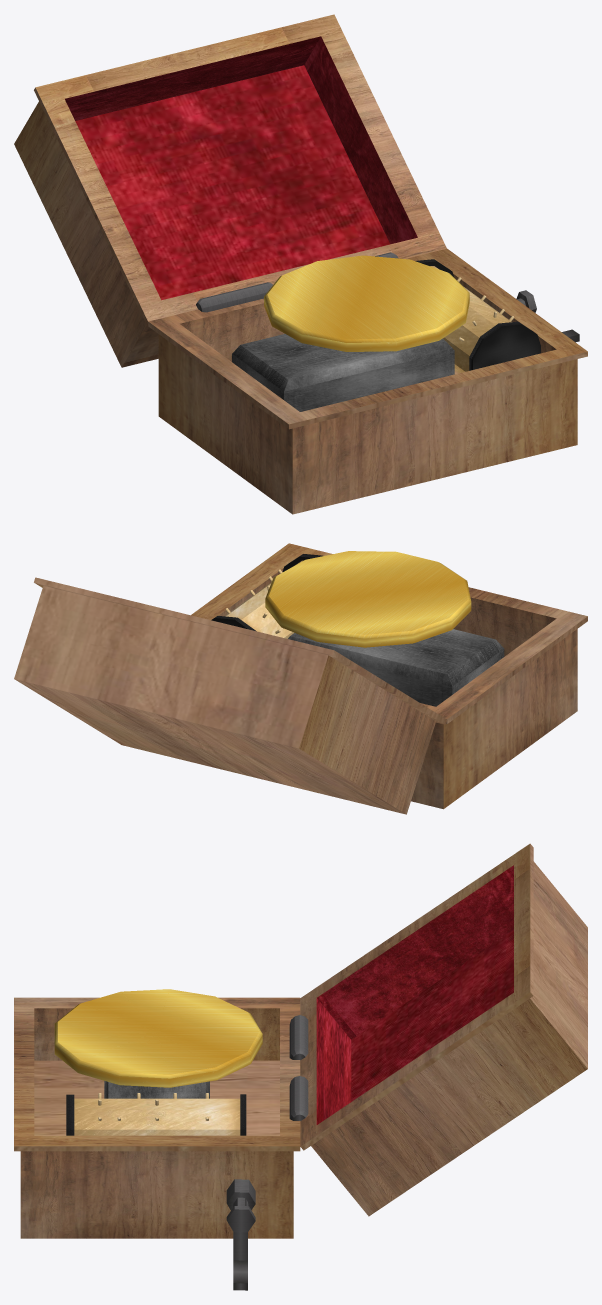
Rendered from NewMusicBox.fbx.
3 views of the same model, one above another, from view 1: azimuth 30°, elevation 25°; view 2: azimuth 150°, elevation 25°; view 3: azimuth 270°, elevation 25° (orthographic).
Parts seen in each view (by area): view 1: cover, box, disk, inside, rubber, rol, hinge; view 2: cover, box, disk, inside, rol, rubber; view 3: cover, box, disk, rol, crank, inside, hinge, hinge2, rubber, pivot.
Boxes of the visible parts, x1,y1,x2,y2 form: cover: (14, 14, 446, 367); box: (148, 248, 587, 514); disk: (264, 255, 469, 351); inside: (232, 334, 454, 411); rubber: (415, 259, 540, 370); rol: (430, 266, 511, 373); hinge: (196, 282, 272, 312); cover: (14, 577, 446, 814); box: (191, 543, 587, 809); disk: (265, 551, 471, 647); inside: (288, 629, 504, 706); rol: (225, 560, 302, 638); rubber: (211, 554, 322, 631); cover: (300, 843, 587, 1216); box: (14, 997, 300, 1238); disk: (54, 989, 262, 1087); rol: (74, 1098, 240, 1135); crank: (226, 1197, 255, 1290); inside: (104, 1081, 209, 1098); hinge: (289, 1015, 308, 1060); hinge2: (289, 1076, 308, 1120); rubber: (66, 1094, 246, 1135); pivot: (226, 1179, 255, 1210).
Bounding box in the file's own units: 4.43 × 2.61 × 5.43.
Materials: 7 (7 with a texture image).
